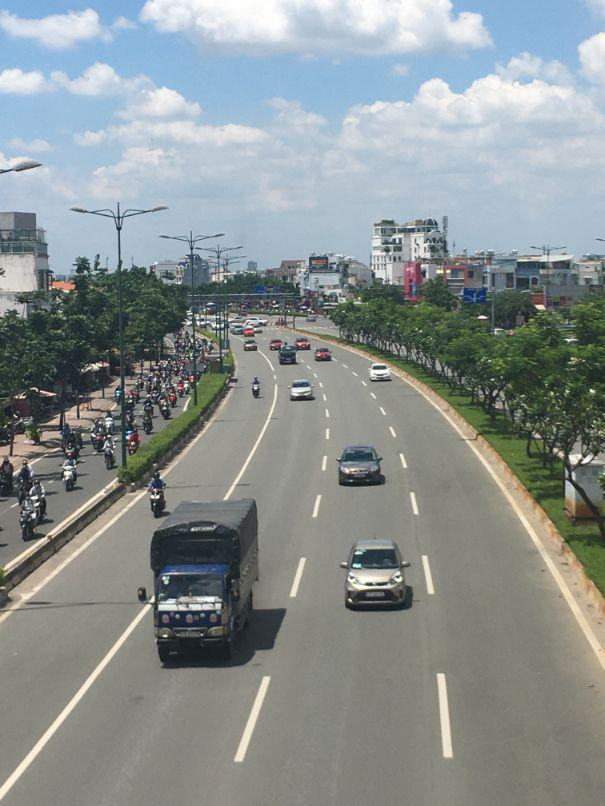car: (342, 539, 411, 612), (337, 446, 383, 489), (290, 380, 314, 402), (370, 362, 391, 383), (315, 346, 333, 362)
motorbike: (18, 491, 45, 541), (150, 482, 168, 520)
truck: (150, 498, 262, 666), (280, 345, 298, 364)
